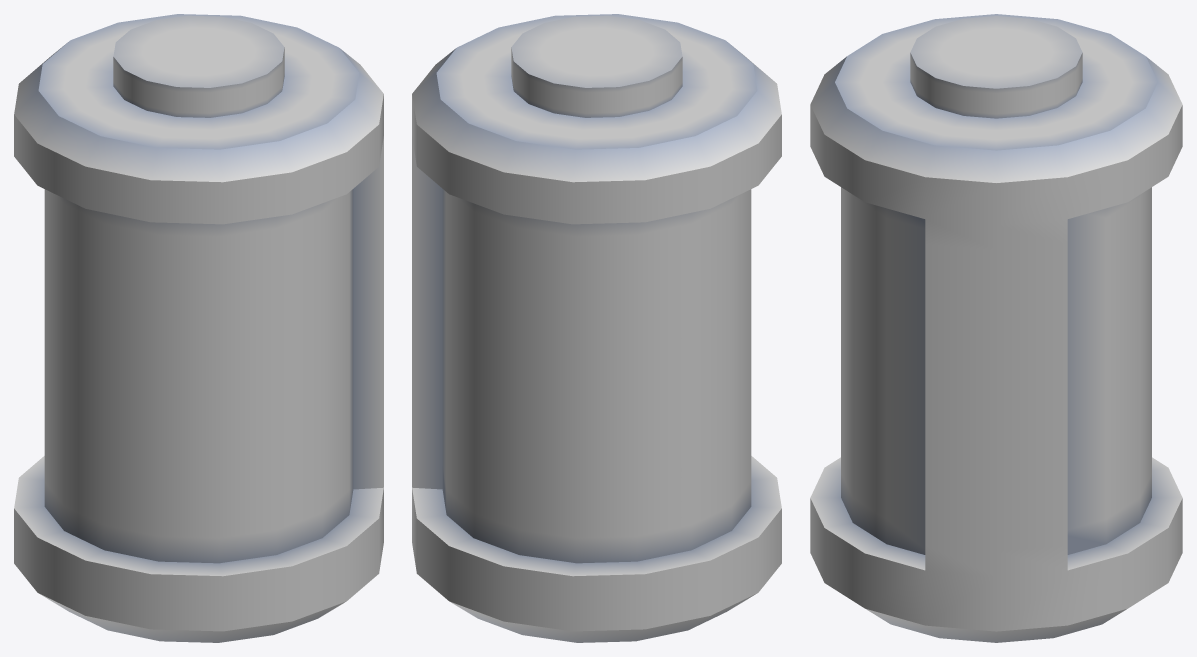
Rendered from obj_battery.glb.
3 renders of one model, left to right at view 1: azimuth 30°, elevation 25°; view 2: azimuth 150°, elevation 25°; view 3: azimuth 270°, elevation 25°, orthographic.
Visible parts, largest first — view 1: Cylinder; view 2: Cylinder; view 3: Cylinder.
Part boxes in pixels (<box>): Cylinder: <box>14,14,383,642</box>; Cylinder: <box>412,14,781,642</box>; Cylinder: <box>810,14,1182,642</box>.
Bounding box in the file's own units: 0.9106 × 1.42 × 0.9106.
